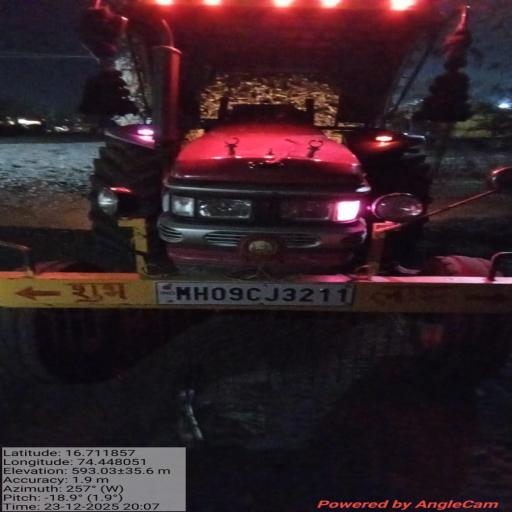number_plate: (146, 280, 351, 312)
